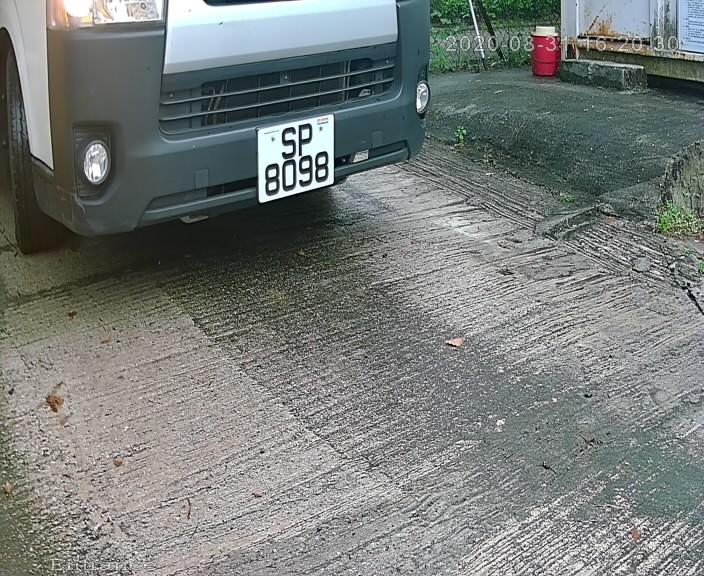Car: (23, 1, 469, 289)
License Plate: (246, 109, 343, 206)
